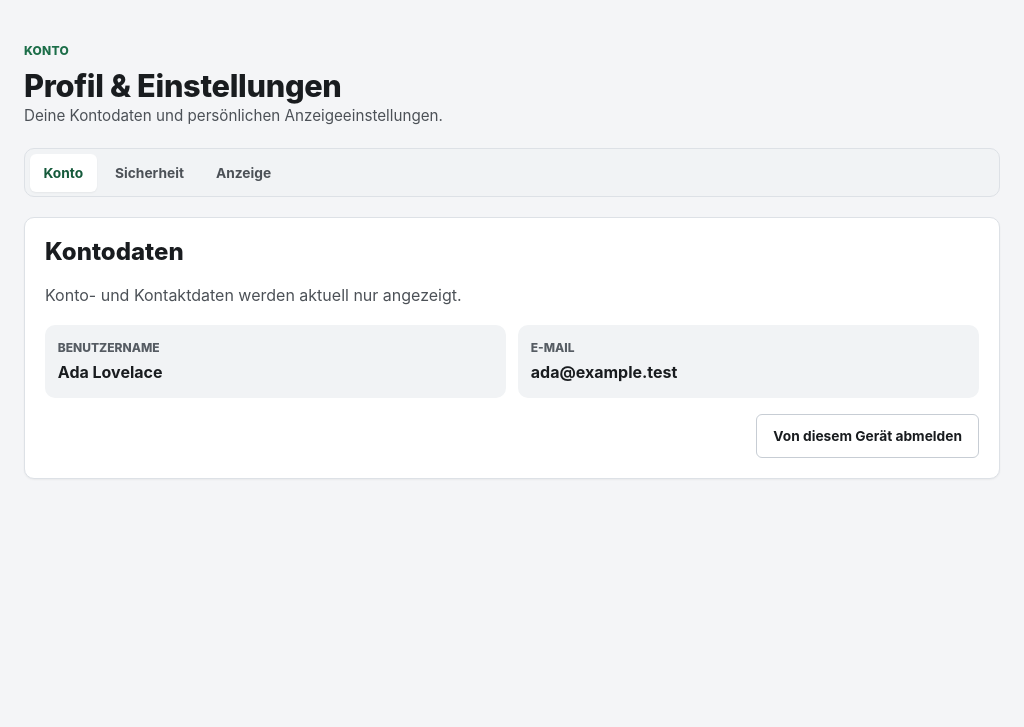
ProfileView › shows a translated error when the current password is wrong
Click the tab "Sicherheit" at (150, 173), box [102,154,198,192]
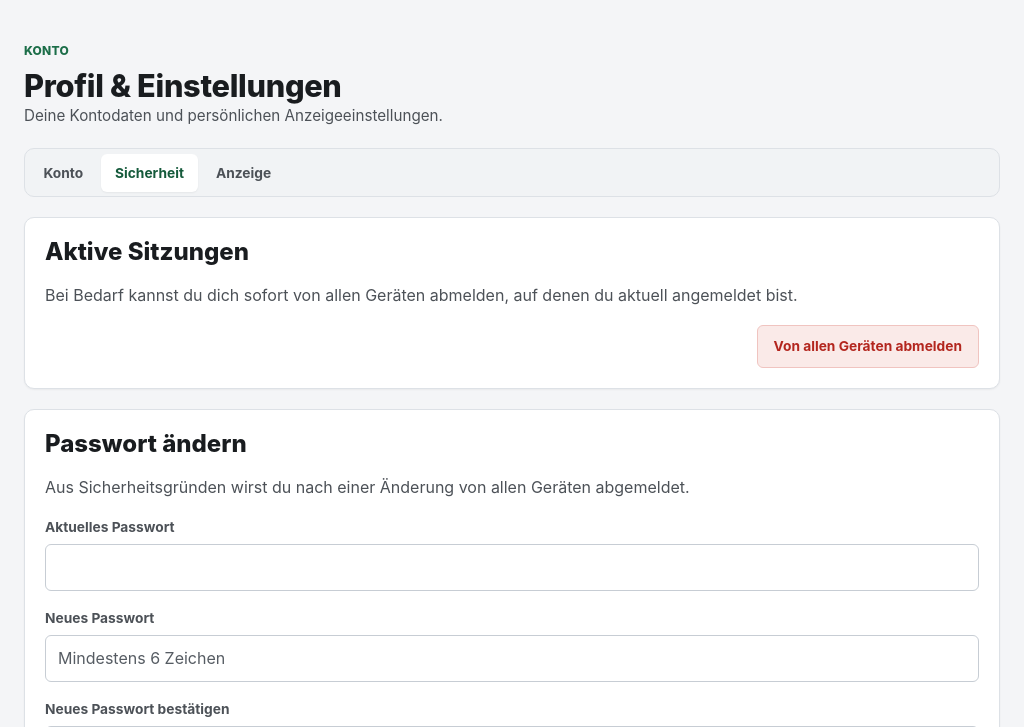
Type "wrong-password" into the password field with id "current-password" at (512, 568), box [45,544,979,591]
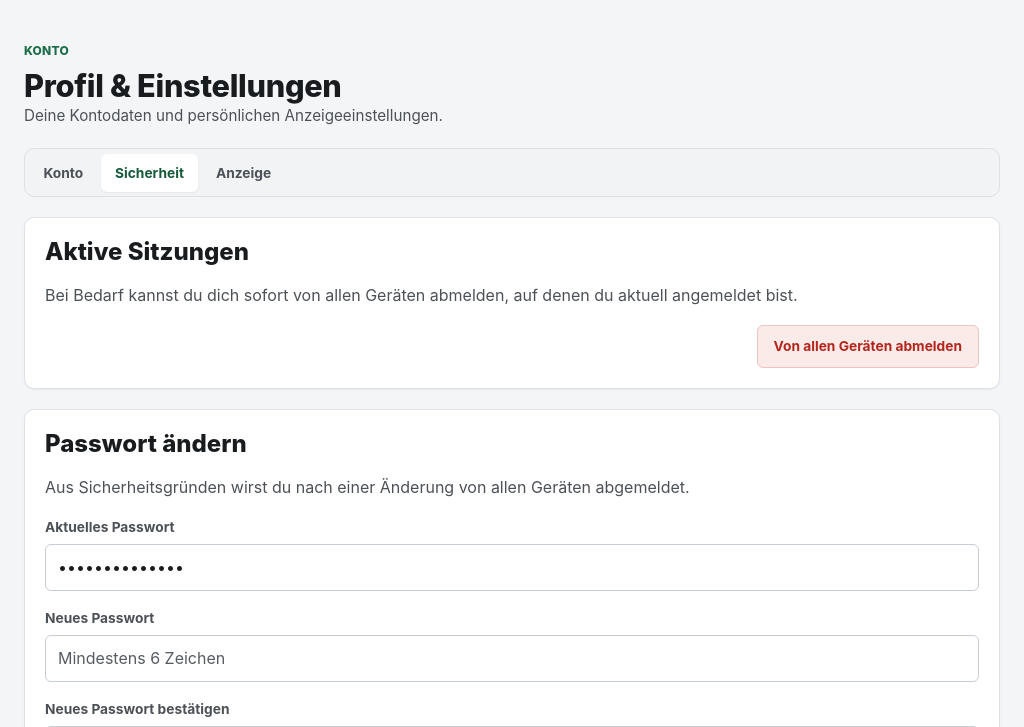
Type "a-brand-new-password-123" into the password field with id "new-password" at (512, 659), box [45,635,979,682]
(page scrolled)
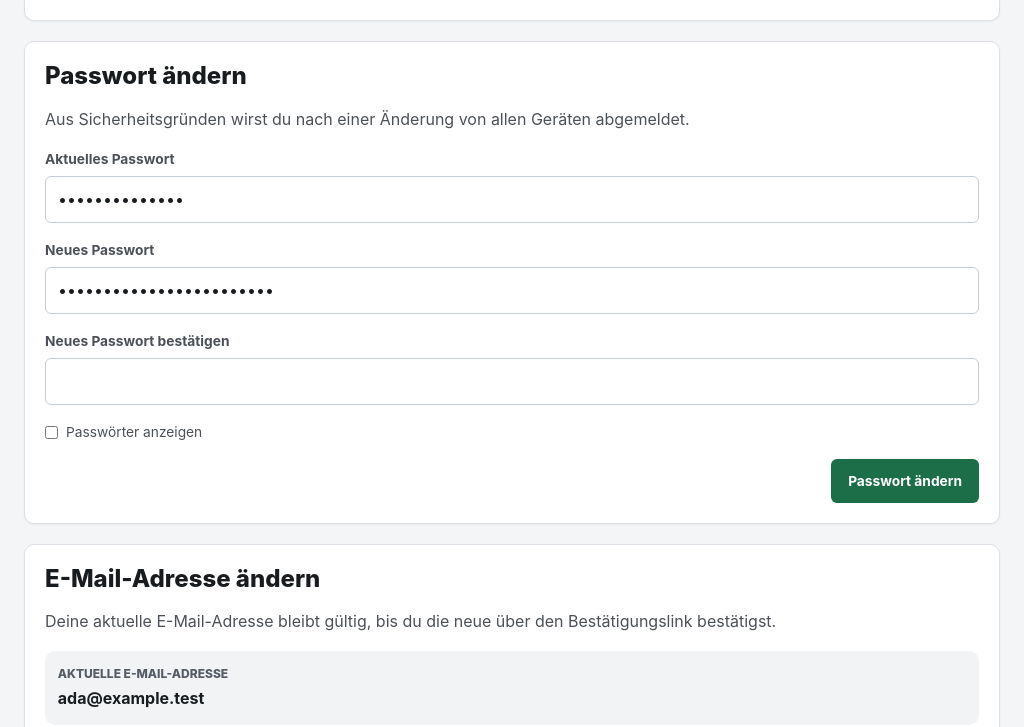
Type "a-brand-new-password-123" into the password field with id "new-password-confirmation" at (512, 382), box [45,358,979,405]
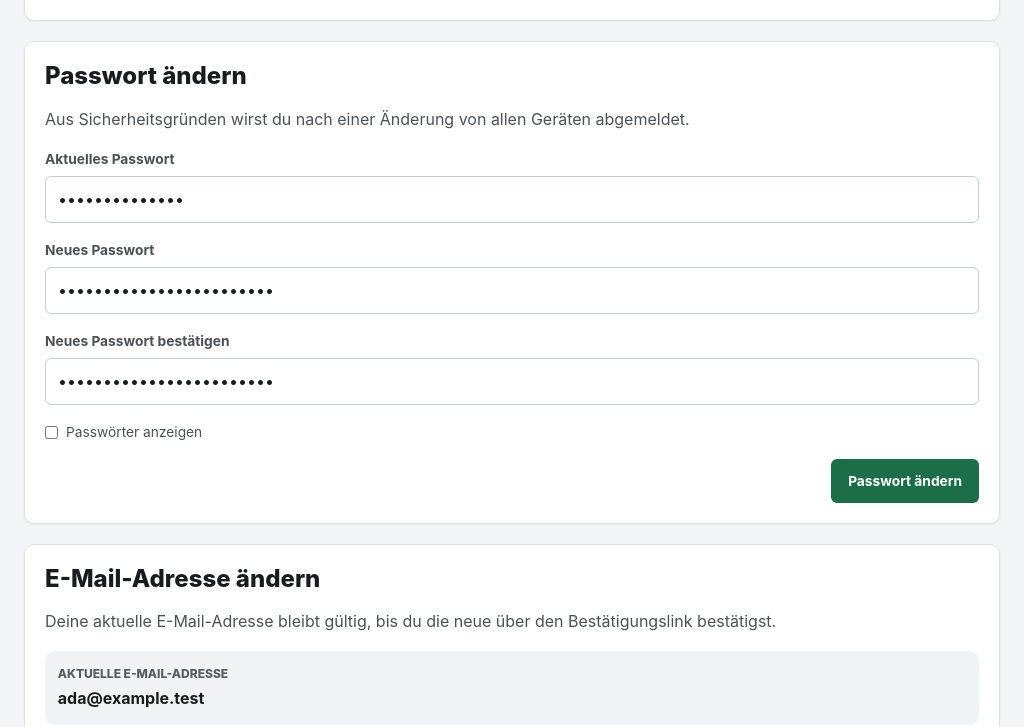
Submit the form that starts with "Passwort ändern"
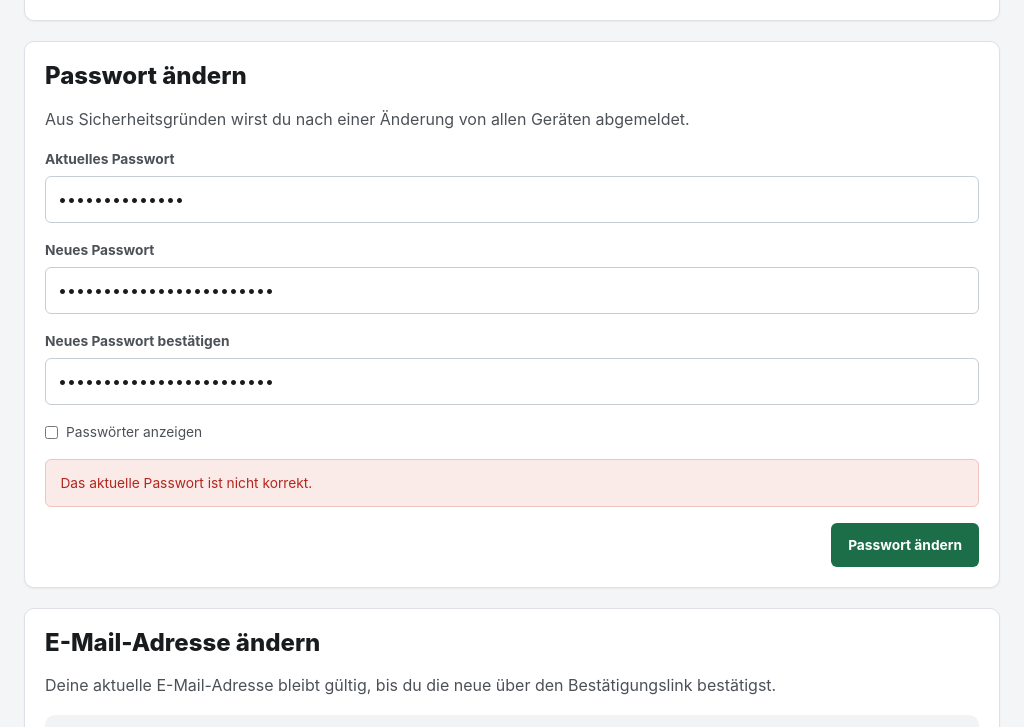
Check: the message "Das aktuelle Passwort ist nicht korrekt." is shown, box [45,460,979,508]
